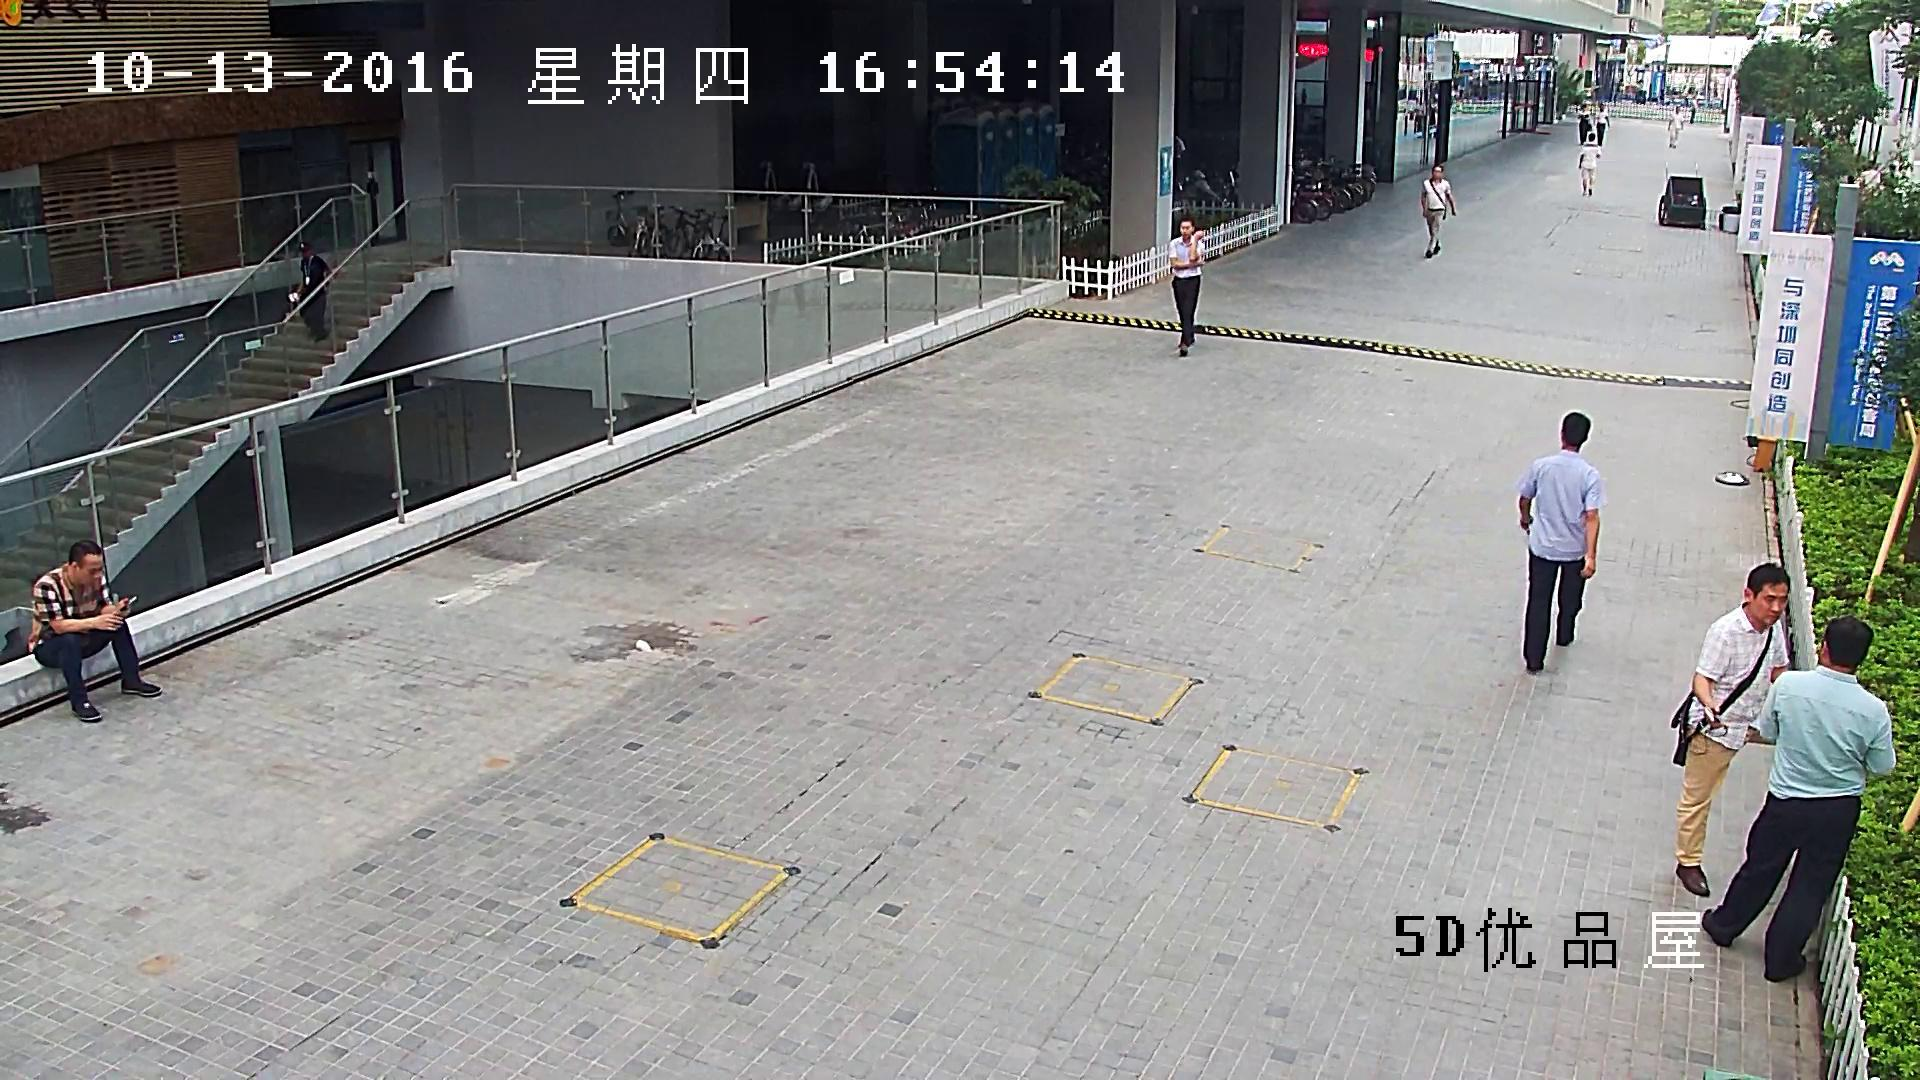person: (1702, 616, 1896, 983), (1673, 561, 1790, 897), (29, 541, 161, 723), (1519, 412, 1606, 673), (1169, 217, 1206, 357), (291, 243, 337, 342), (1420, 165, 1456, 259), (1579, 133, 1601, 198), (1859, 160, 1881, 197), (1667, 104, 1684, 148), (1594, 103, 1610, 146), (1578, 103, 1590, 145), (1690, 95, 1698, 126)
